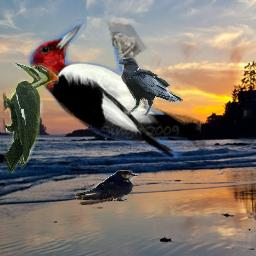Crow: (117, 57, 183, 116)
Swallow: (75, 170, 138, 205)
Woodpecker: (10, 16, 211, 167), (3, 63, 59, 173)
